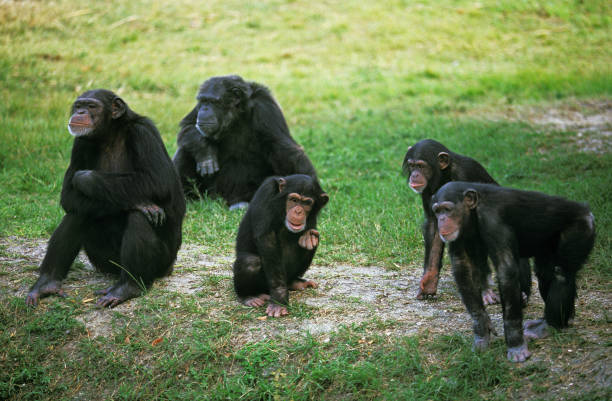chimpanzee: (52, 84, 135, 152), (187, 72, 258, 147), (266, 168, 330, 241), (414, 184, 479, 253), (390, 133, 462, 193)
